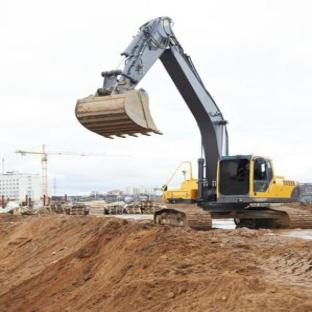ExcavationMachinery: (69, 3, 307, 241)
